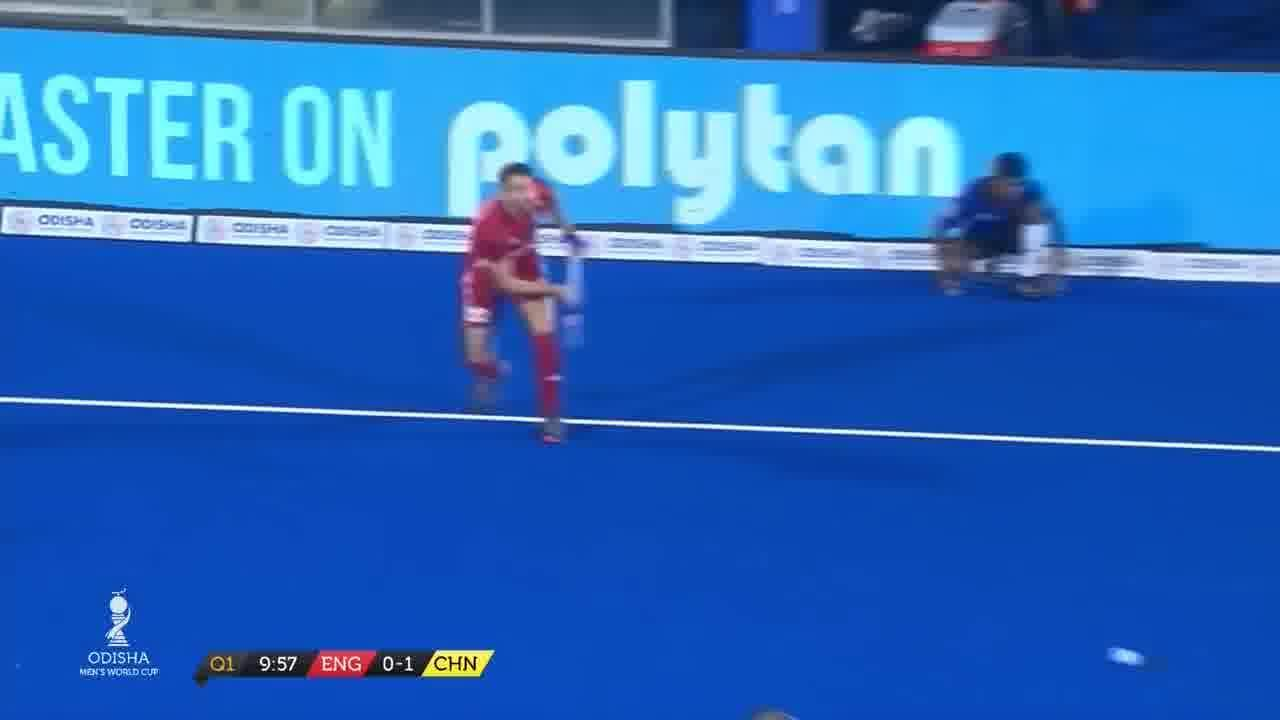ball: (1100, 642, 1146, 672)
